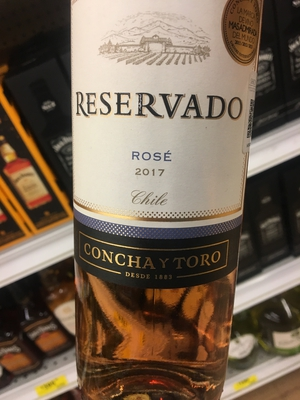reservado rose: (69, 1, 263, 400)
